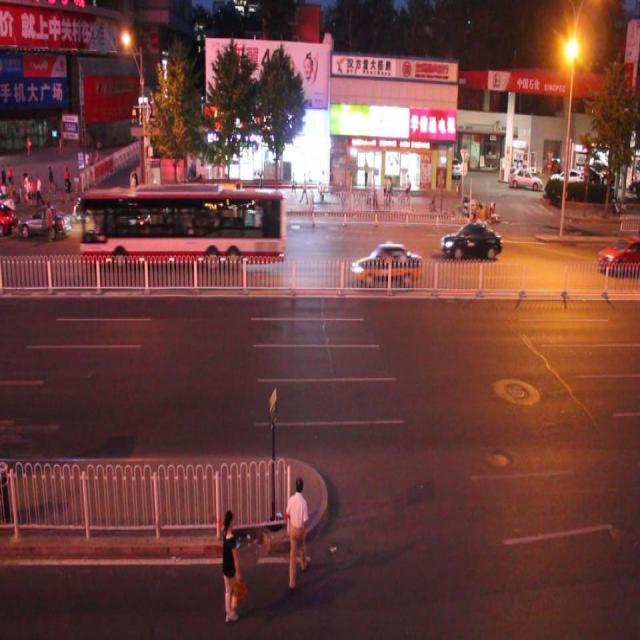bus: (153, 184, 240, 259)
car: (349, 240, 423, 284), (439, 219, 501, 261), (97, 197, 152, 239), (17, 197, 72, 238), (596, 234, 640, 274)
van: (78, 184, 284, 268)
